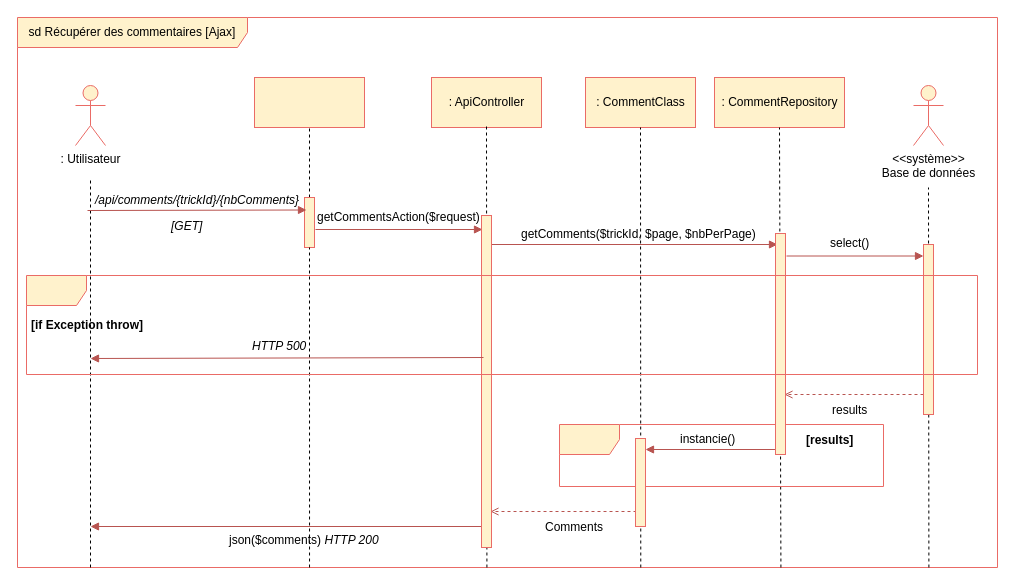
Image size: 1015x586. Some labels were removed from this diagram. The box of each missing label's shape, as (x1, y1, x2, y2) in pixels:
: Router: (254, 76, 364, 128)
break: (26, 274, 978, 374)
loop: (558, 424, 884, 486)
